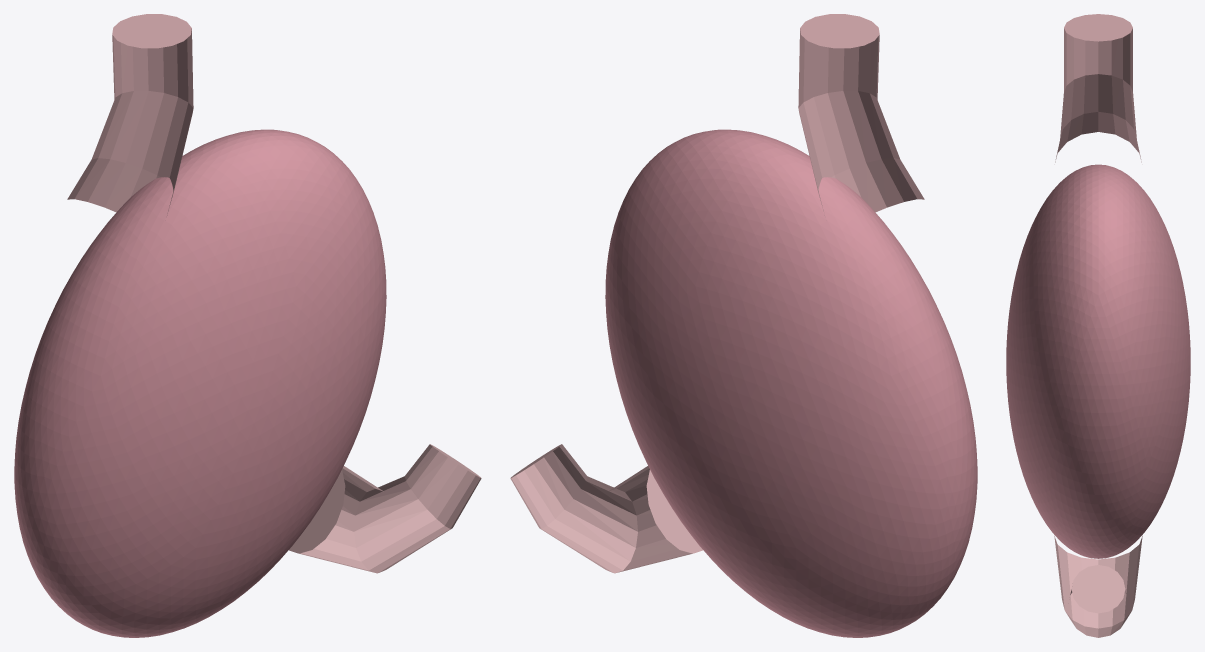
File: lambung.glb
3 views of the same model, side by side, from view 1: azimuth 30°, elevation 25°; view 2: azimuth 150°, elevation 25°; view 3: azimuth 270°, elevation 25° (orthographic). The views are drawn at different scales.
Visible parts, largest first — view 1: lambung, esofagus_pendek, keluaran_lambung; view 2: lambung, esofagus_pendek, keluaran_lambung; view 3: lambung, esofagus_pendek, keluaran_lambung.
Part boxes in pixels (box(x1,y1,x2,y2)): lambung: box(14, 129, 386, 637); esofagus_pendek: box(67, 14, 193, 215); keluaran_lambung: box(289, 444, 481, 573); lambung: box(605, 129, 977, 637); esofagus_pendek: box(798, 14, 924, 215); keluaran_lambung: box(510, 444, 702, 573); lambung: box(1006, 164, 1190, 558); esofagus_pendek: box(1055, 14, 1141, 162); keluaran_lambung: box(1054, 536, 1142, 637).
Size of the model in its own units: 2.35 by 2.97 by 0.96.
